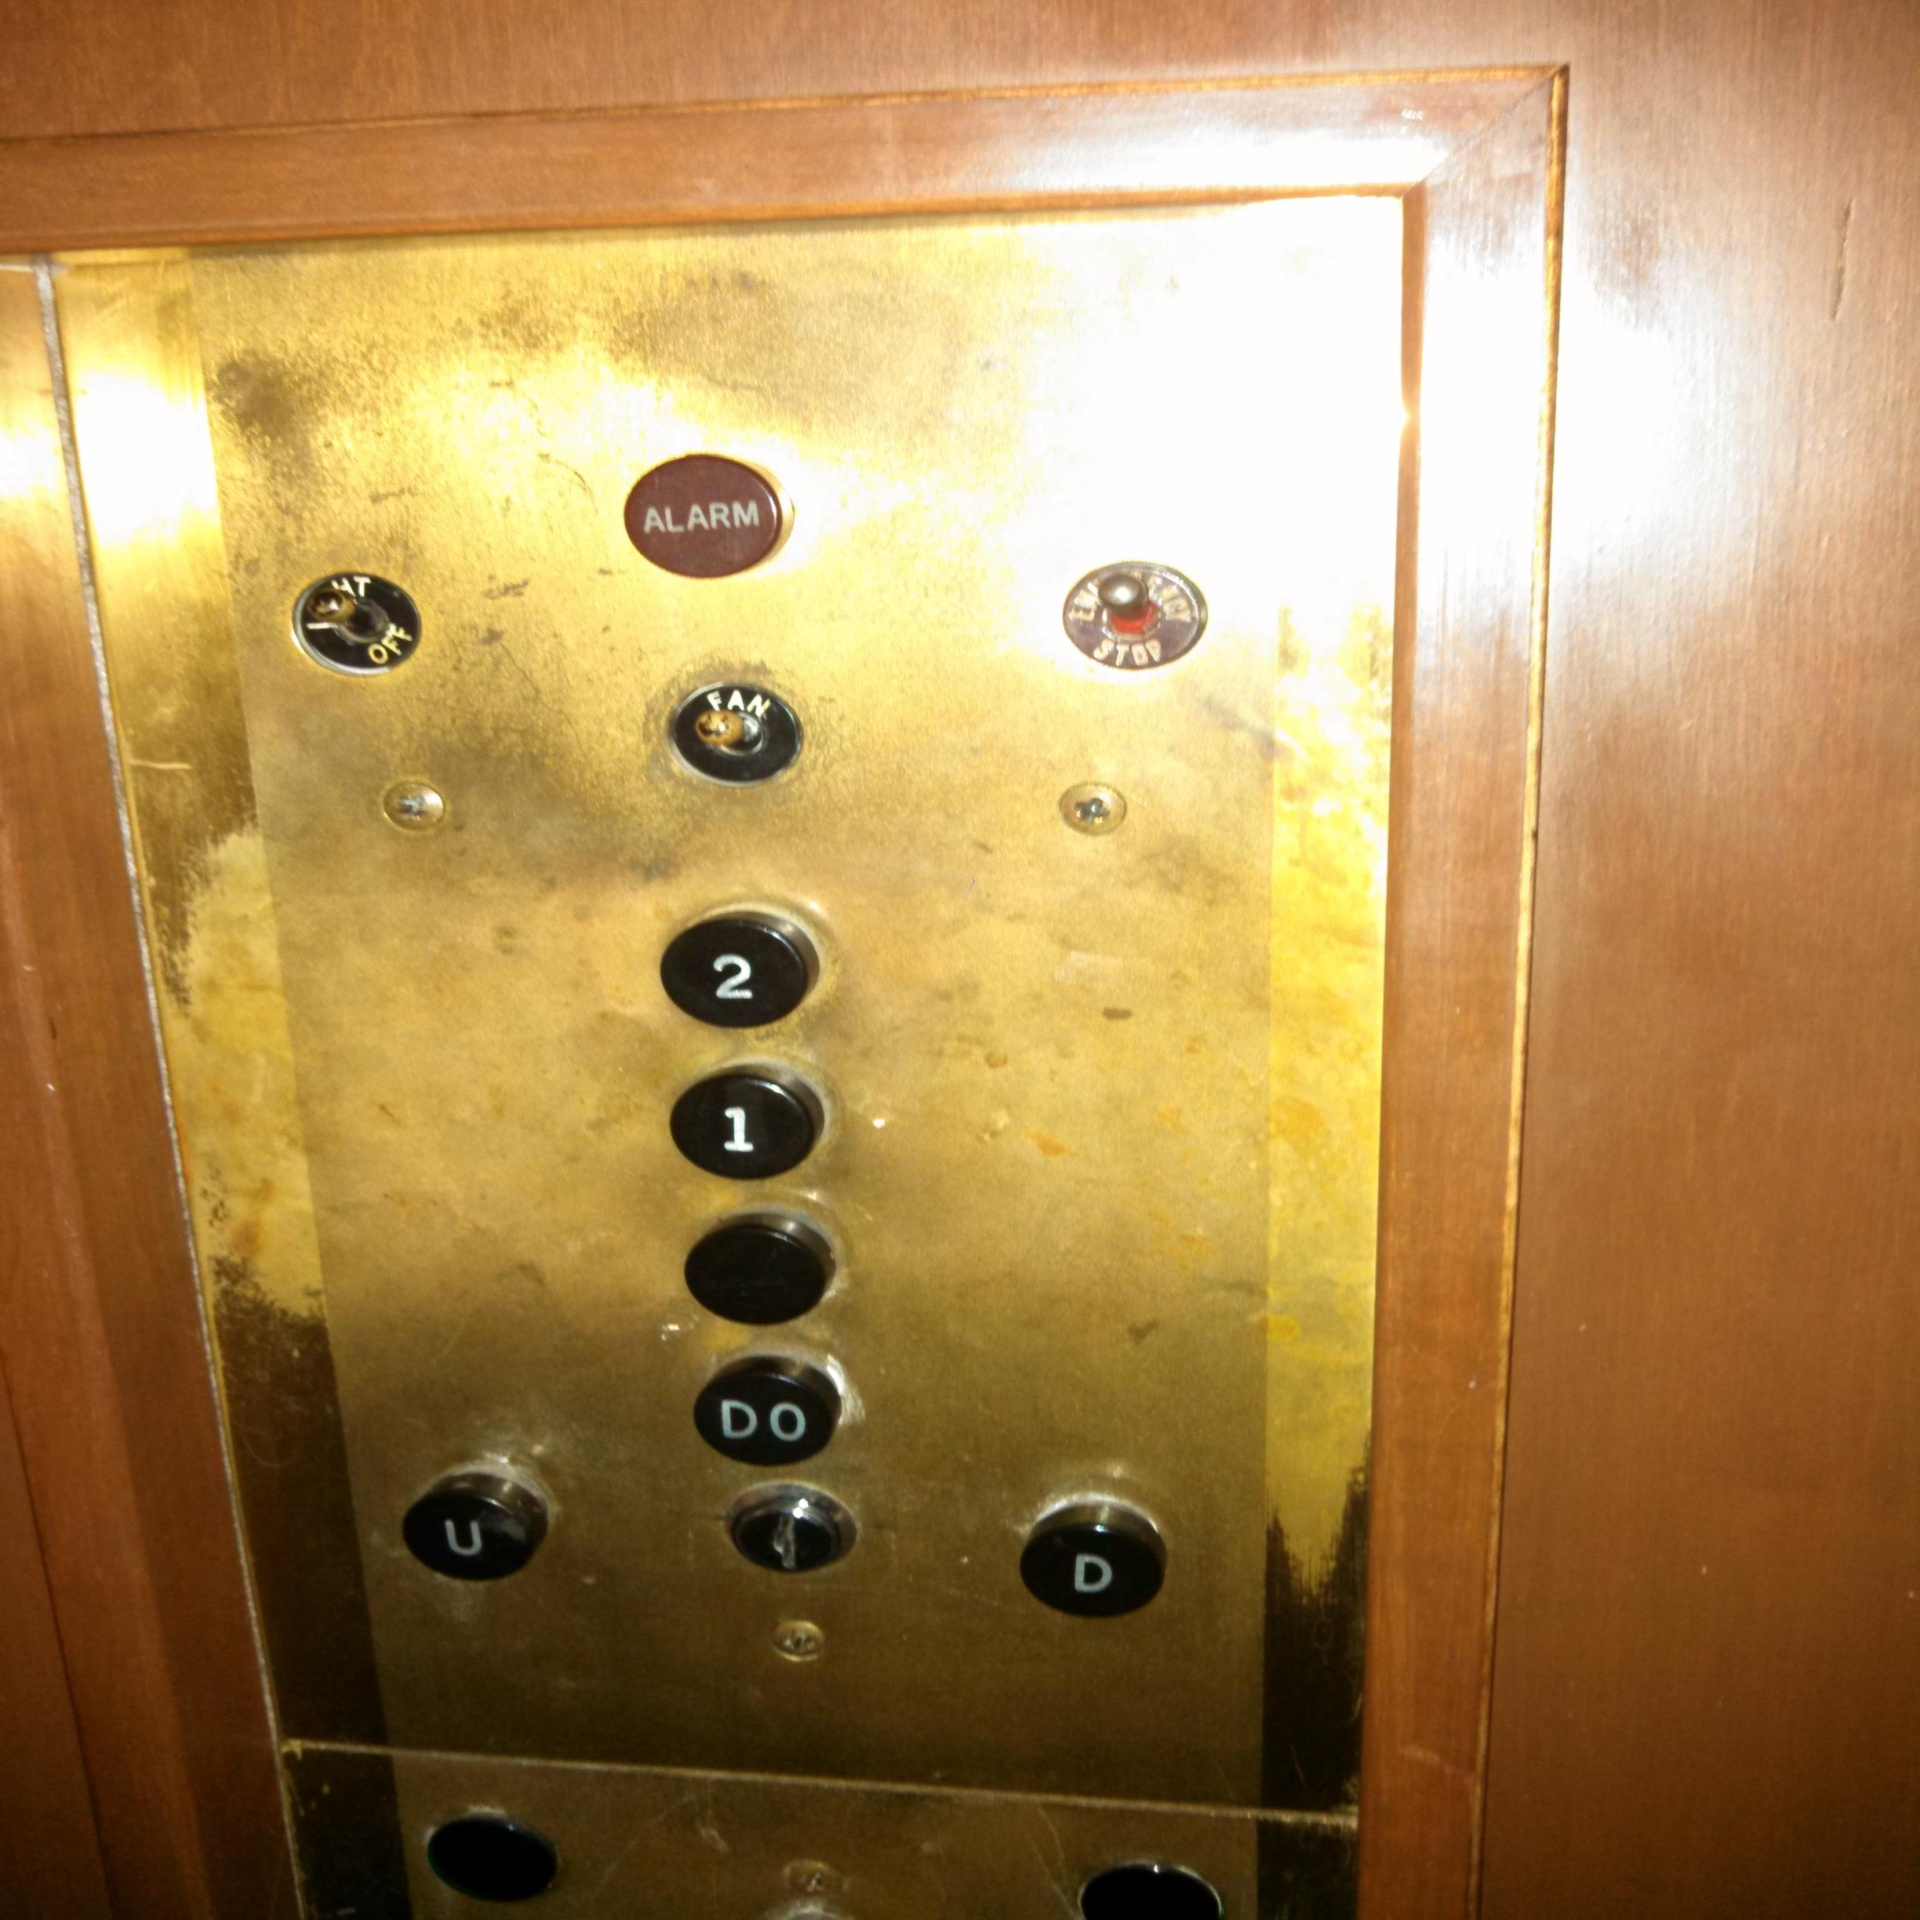1: (661, 1051, 832, 1189)
2: (649, 898, 833, 1039)
D: (1007, 1486, 1176, 1628)
DO: (682, 1347, 847, 1475)
U: (390, 1461, 556, 1589)
empty: (673, 1203, 837, 1333)
keyhole: (714, 1475, 865, 1582)
switch: (1050, 552, 1217, 684), (661, 668, 811, 795), (280, 561, 427, 684)
text: (612, 445, 795, 587)
